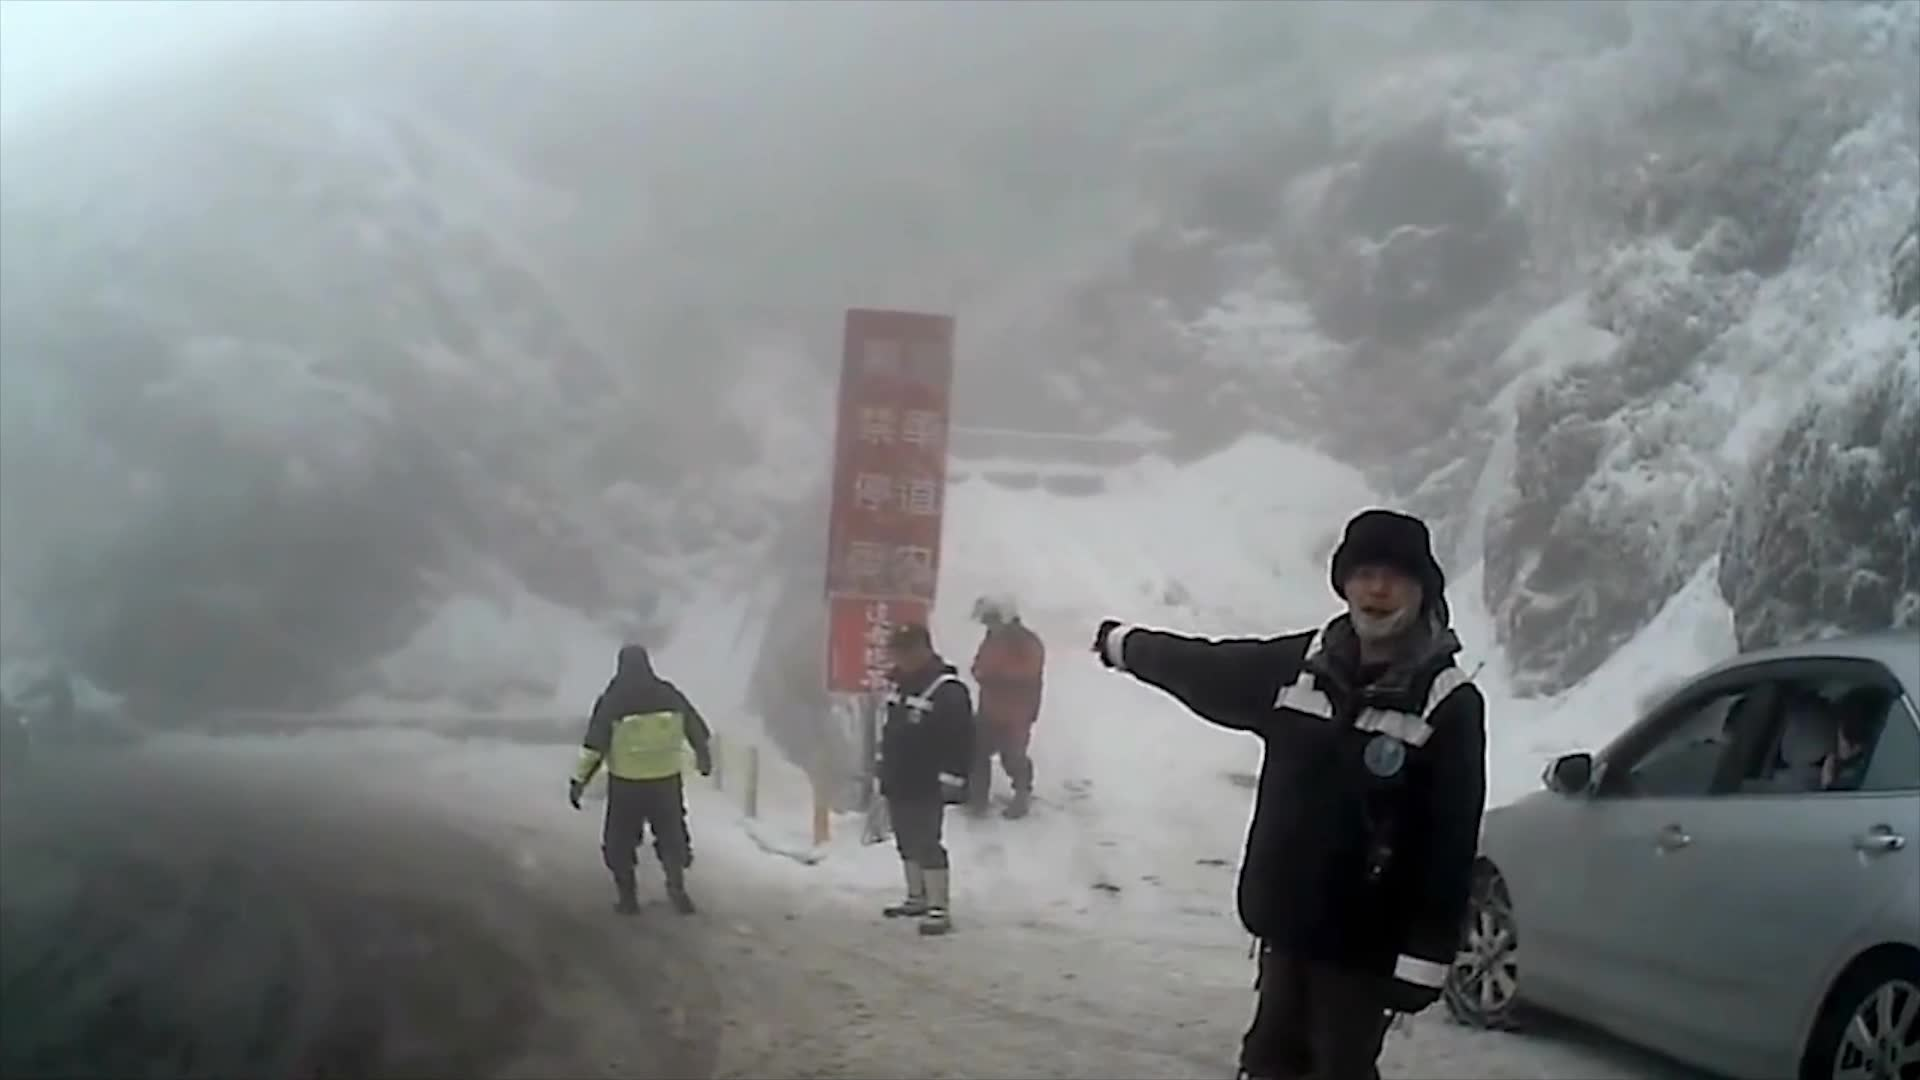pedestrian: (1092, 496, 1487, 1079), (577, 637, 717, 912), (876, 619, 981, 938), (969, 589, 1057, 818)
vehicle: (1423, 629, 1918, 1079)
